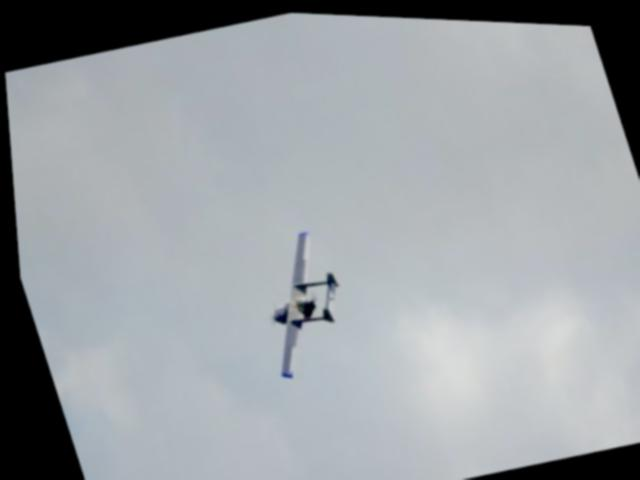uav: (229, 218, 360, 383)
